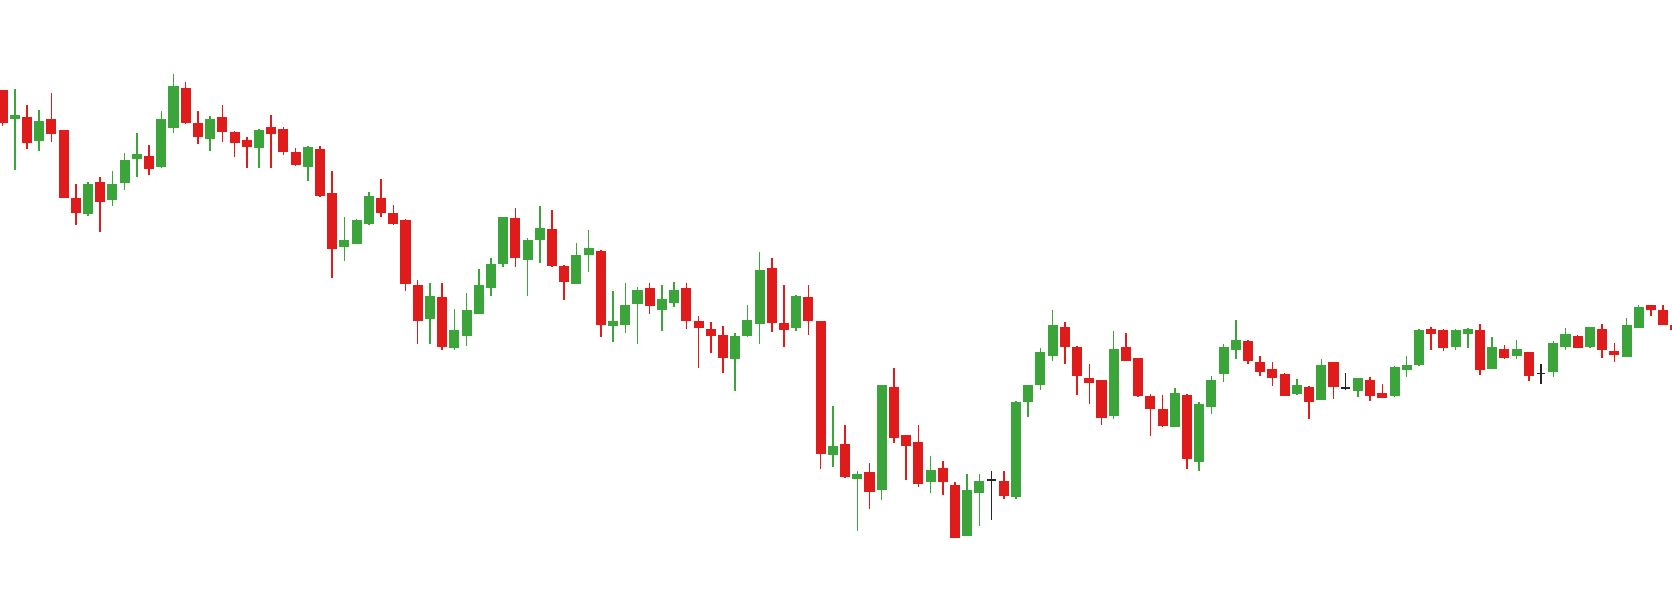sell: (874, 309, 1084, 438), (46, 74, 192, 160), (663, 251, 778, 359)
